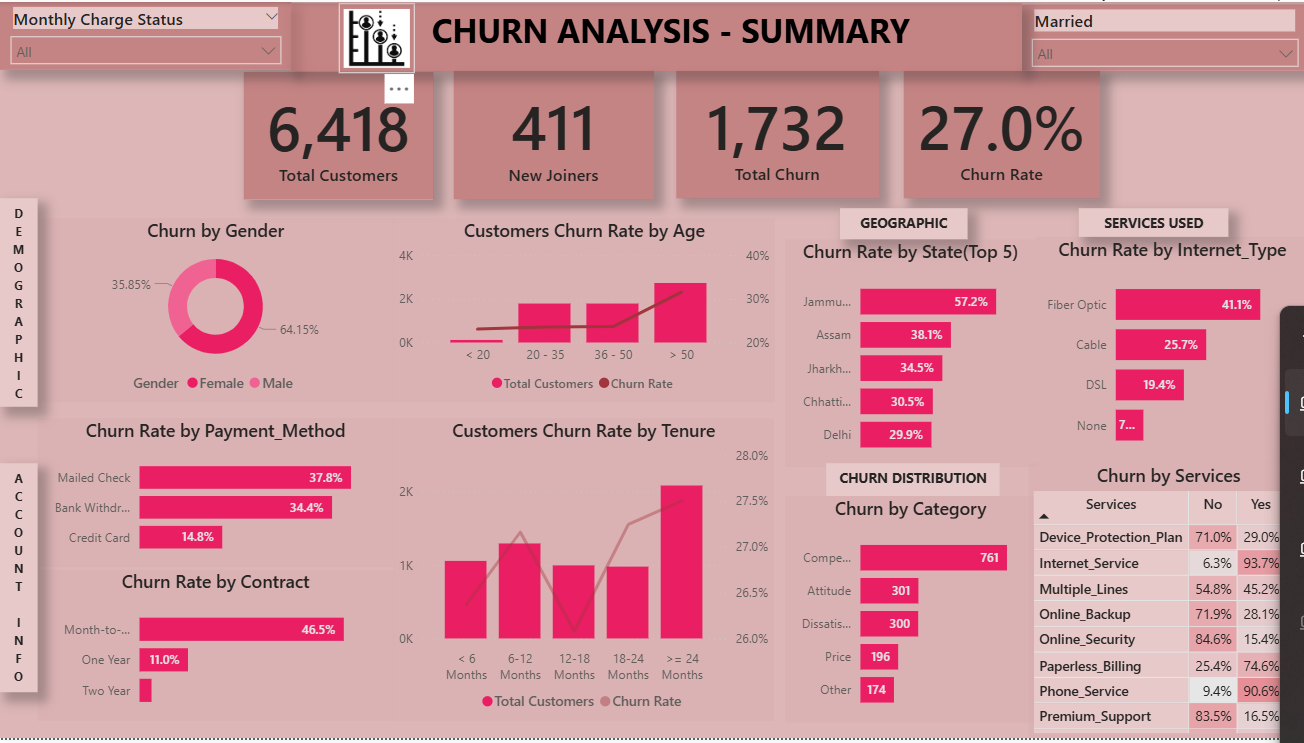

The dashboard page shown, as its layout file describes it:
{"tool":"powerbi","page":{"name":"Churn_Analysis","canvas":[1280,720],"ordinal":0},"visuals":[{"type":"card","fields":{"Values":["tbl_Measures.Total Customers"]},"box":[238.5,68.5,185.9,124.7],"z":0},{"type":"card","fields":{"Values":["tbl_Measures.New Joiners"]},"box":[443.9,67.3,195.7,126],"z":1000},{"type":"card","fields":{"Values":["tbl_Measures.Total Churn"]},"box":[661.6,67.3,198.1,124.7],"z":2000},{"type":"card","fields":{"Values":["tbl_Measures.Churn Rate"]},"box":[884.1,67.3,192,124.7],"z":3000},{"type":"donutChart","title":" Churn by Gender","fields":{"Category":["prod_Churn.Gender"],"Y":["tbl_Measures.Total Churn"]},"box":[36.7,211.6,348.5,179.8],"z":4000},{"type":"lineStackedColumnComboChart","title":" Customers Churn Rate by Age","fields":{"Category":["mapping_AgeGrp.Age Group"],"Y":["tbl_Measures.Total Customers"],"Y2":["tbl_Measures.Churn Rate"]},"box":[385.2,211.6,373,179.8],"z":5000},{"type":"clusteredBarChart","fields":{"Category":["prod_Churn.Payment_Method"],"Y":["tbl_Measures.Churn Rate"]},"box":[36.7,407.2,348.5,145.5],"z":6000},{"type":"clusteredBarChart","fields":{"Category":["prod_Churn.Contract"],"Y":["tbl_Measures.Churn Rate"]},"box":[36.7,555.2,348.5,148],"z":7000},{"type":"lineStackedColumnComboChart","title":" Customers Churn Rate by Tenure ","fields":{"Category":["mapping_TenureGrp.Tenure Group"],"Y":["tbl_Measures.Total Customers"],"Y2":["tbl_Measures.Churn Rate"]},"box":[385.2,407.2,371.7,295.9],"z":8000},{"type":"clusteredBarChart","title":"Churn Rate by State(Top 5)","fields":{"Category":["prod_Churn.State"],"Y":["tbl_Measures.Churn Rate"]},"box":[767.9,232.3,245.8,222.6],"z":9000},{"type":"clusteredBarChart","title":" Churn by Category","fields":{"Y":["tbl_Measures.Total Churn"],"Category":["prod_Churn.Churn_Category"]},"box":[767.9,483,245.8,221.3],"z":10000},{"type":"clusteredBarChart","fields":{"Category":["prod_Churn.Internet_Type"],"Y":["tbl_Measures.Churn Rate"]},"box":[1013.7,229.9,266.6,221.3],"z":11000},{"type":"pivotTable","title":"Churn by Services","fields":{"Rows":["Prod_Services.Services"],"Columns":["Prod_Services.Status"],"Values":["Sum(Prod_Services.Churn Status)"]},"box":[1006.4,451.2,273.9,269],"z":12000},{"type":"slicer","fields":{"Values":["Prod_Services.Monthly Charge Range"]},"box":[0,0,284.9,66],"z":13000},{"type":"slicer","fields":{"Values":["prod_Churn.Married"]},"box":[999.1,2.4,281.3,64.8],"z":14000},{"type":"textbox","box":[0,192,36.7,204.2],"z":15000},{"type":"textbox","box":[284.9,1.2,714.1,66],"z":16000},{"type":"textbox","box":[0,451.2,36.7,223.8],"z":17000},{"type":"textbox","box":[821.7,201.8,124.7,30.6],"z":18000},{"type":"textbox","box":[808.3,451.2,170,31.8],"z":19000},{"type":"textbox","box":[1055.3,201.8,146.7,28.1],"z":20000},{"type":"image","box":[331.4,1.2,74.6,68.5],"z":21000}]}

Visuals, with their boxes in screenshot pixels (x1, y1, x2, y2), scaled from the page's 1280x720 canvas onto the 1304x743 screenshot:
card - tbl_Measures.Total Customers: region(243, 71, 432, 199)
card - tbl_Measures.New Joiners: region(452, 69, 652, 199)
card - tbl_Measures.Total Churn: region(674, 69, 876, 198)
card - tbl_Measures.Churn Rate: region(901, 69, 1096, 198)
" Churn by Gender" donutChart: region(37, 218, 392, 404)
" Customers Churn Rate by Age" lineStackedColumnComboChart: region(392, 218, 772, 404)
clusteredBarChart - prod_Churn.Payment_Method x tbl_Measures.Churn Rate: region(37, 420, 392, 570)
clusteredBarChart - prod_Churn.Contract x tbl_Measures.Churn Rate: region(37, 573, 392, 726)
" Customers Churn Rate by Tenure " lineStackedColumnComboChart: region(392, 420, 771, 726)
"Churn Rate by State(Top 5)" clusteredBarChart: region(782, 240, 1033, 469)
" Churn by Category" clusteredBarChart: region(782, 498, 1033, 727)
clusteredBarChart - prod_Churn.Internet_Type x tbl_Measures.Churn Rate: region(1033, 237, 1303, 466)
"Churn by Services" pivotTable: region(1025, 466, 1303, 742)
slicer - Prod_Services.Monthly Charge Range: region(0, 0, 290, 68)
slicer - prod_Churn.Married: region(1018, 2, 1303, 69)
textbox: region(0, 198, 37, 409)
textbox: region(290, 1, 1018, 69)
textbox: region(0, 466, 37, 697)
textbox: region(837, 208, 964, 240)
textbox: region(823, 466, 997, 498)
textbox: region(1075, 208, 1225, 237)
image: region(338, 1, 414, 72)
